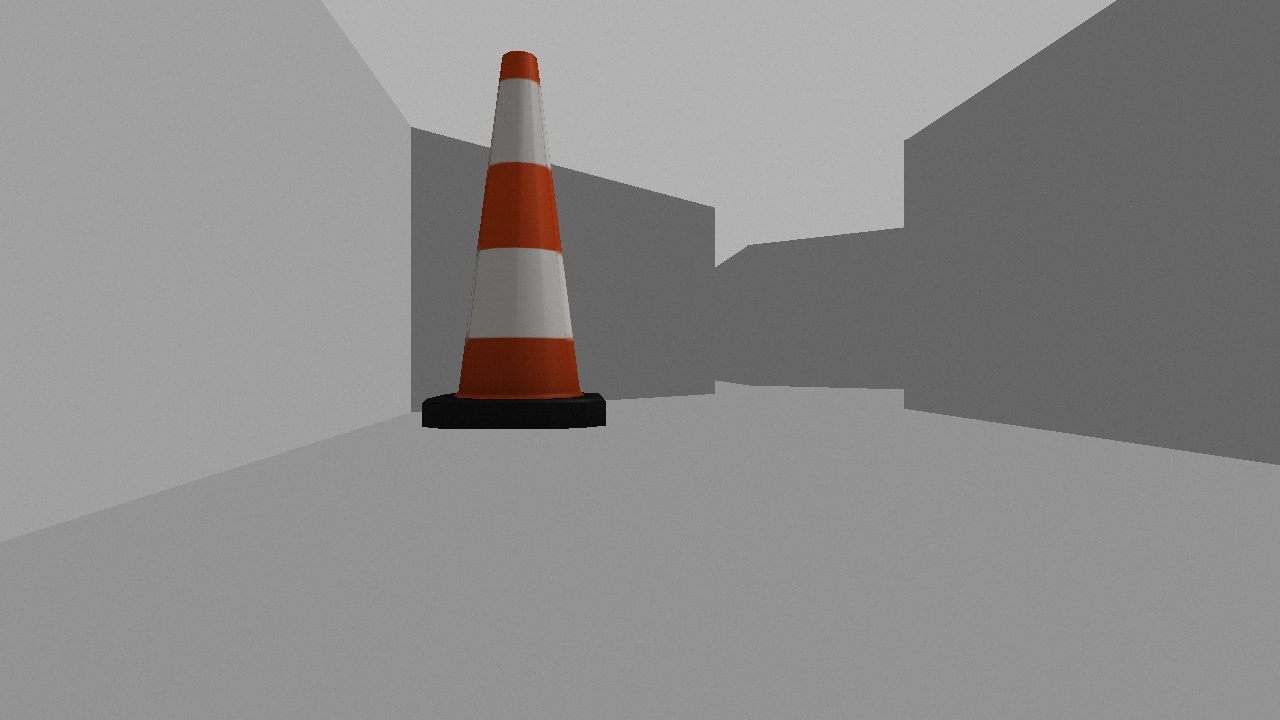barricade: (421, 46, 609, 429)
